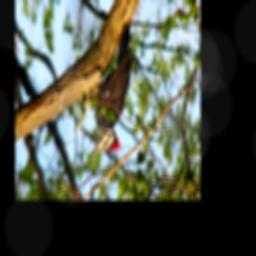Woodpecker: (85, 18, 136, 161)
